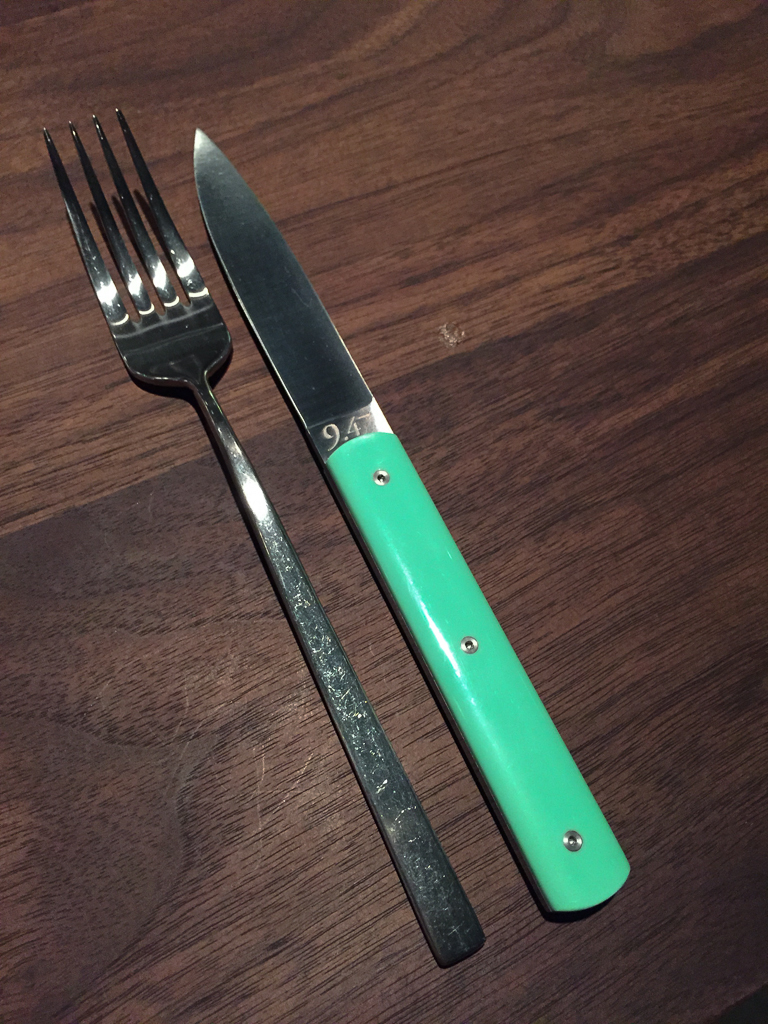fork: (40, 109, 485, 970)
